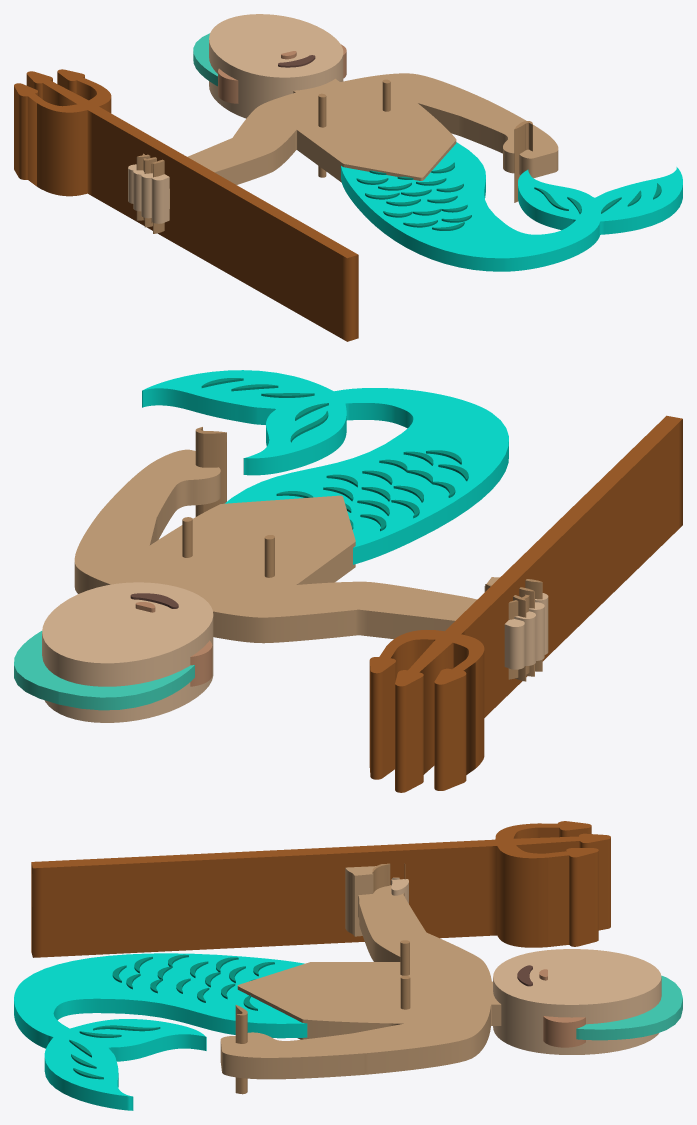
The model's file is emoji_u1f9dc_1f3fc_200d_2642.glb.
3 renders of one model, top to bottom at view 1: azimuth 30°, elevation 25°; view 2: azimuth 150°, elevation 25°; view 3: azimuth 270°, elevation 25°, orthographic. The views are drawn at different scales.
Visible parts, largest first — view 1: emoji_u1f9dc_1f3fc_200d_2642; view 2: emoji_u1f9dc_1f3fc_200d_2642; view 3: emoji_u1f9dc_1f3fc_200d_2642.
Part boxes in pixels (<box>): emoji_u1f9dc_1f3fc_200d_2642: <box>14,14,682,341</box>; emoji_u1f9dc_1f3fc_200d_2642: <box>14,370,682,792</box>; emoji_u1f9dc_1f3fc_200d_2642: <box>14,821,682,1110</box>.
Size of the model in its own units: 0.0285 by 0.005 by 0.0339.
